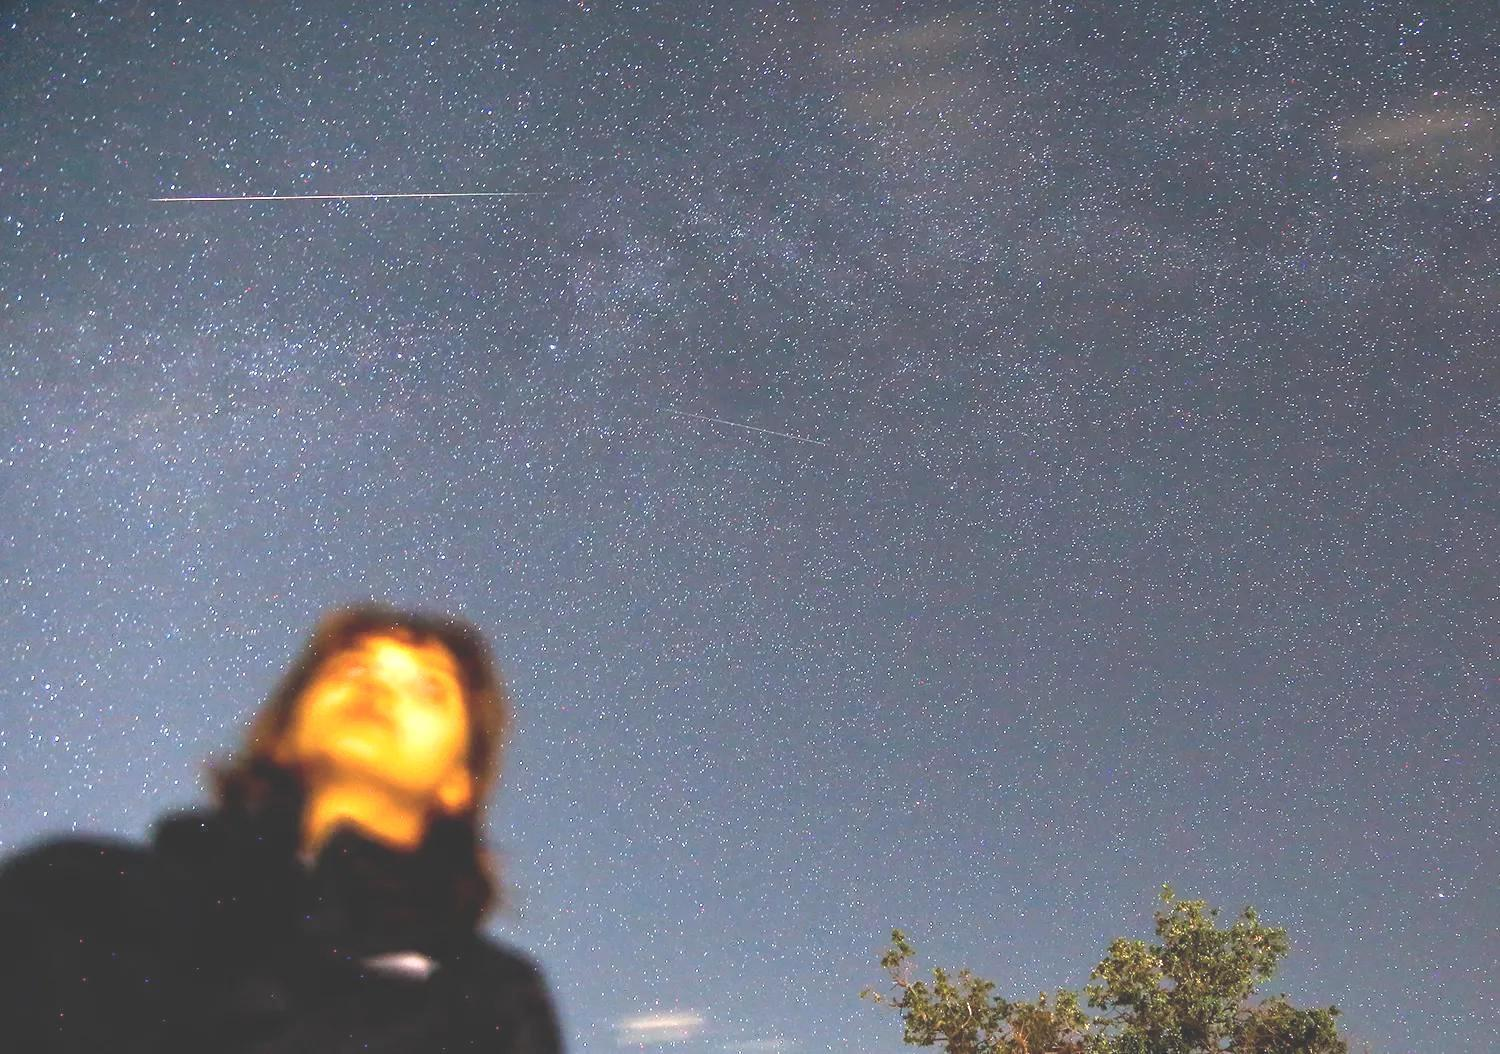meteorite: (632, 379, 844, 480), (124, 186, 530, 228)
